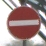No entry: (5, 6, 40, 41)
